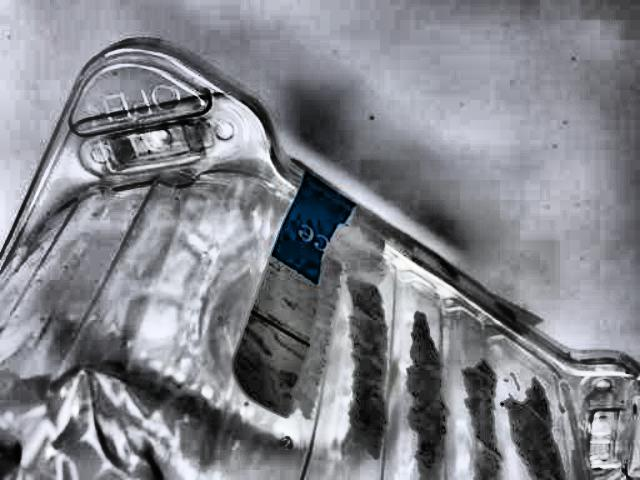Plastic: (0, 30, 640, 480)
